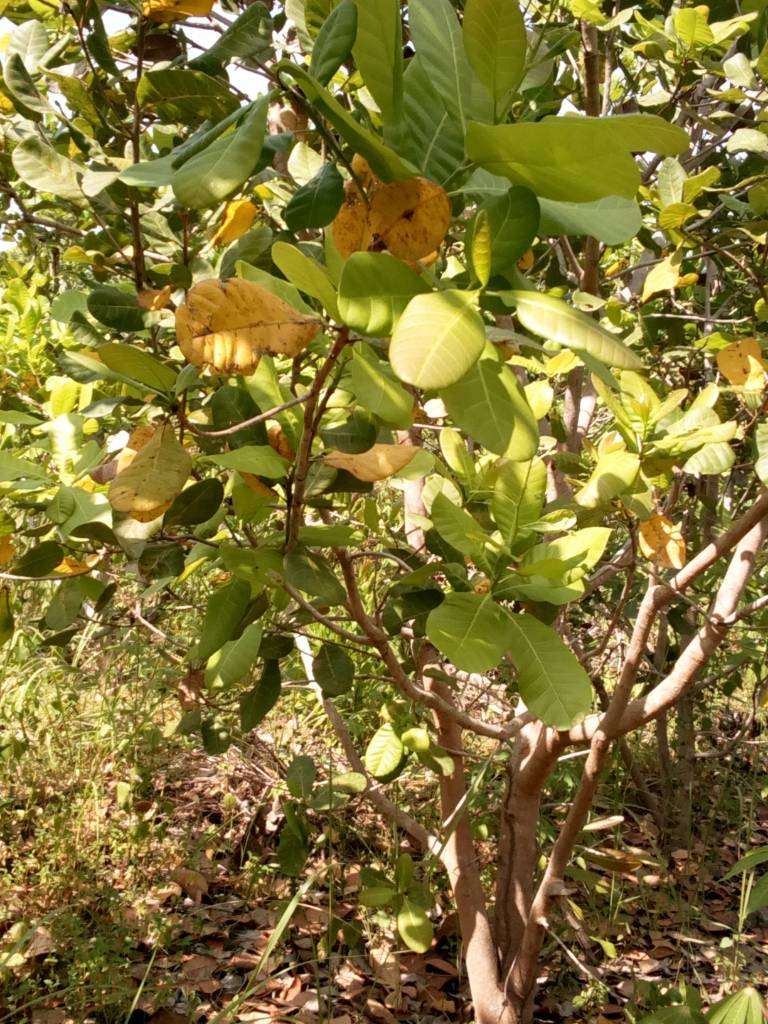Anthracnose: (171, 280, 322, 378), (100, 417, 188, 527), (350, 178, 452, 257)
